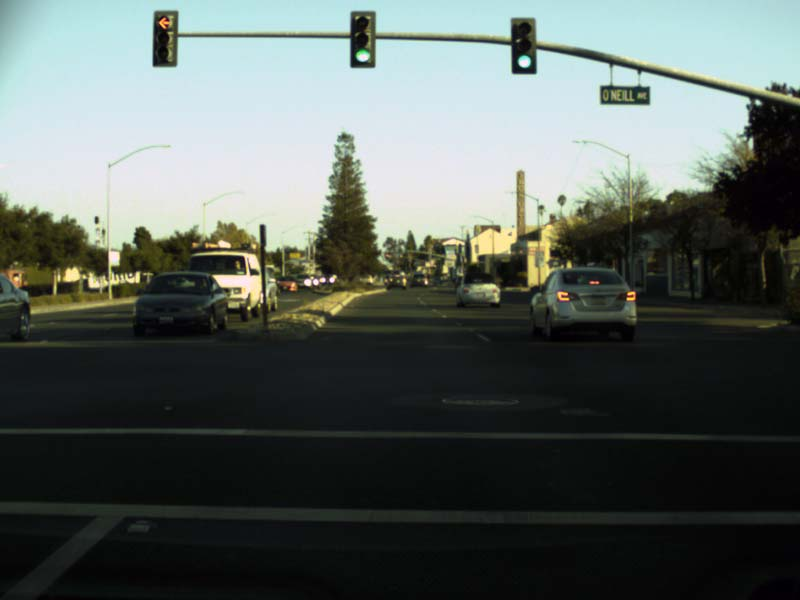Green: (349, 11, 375, 67), (511, 17, 535, 73)
Red: (153, 10, 176, 66)
